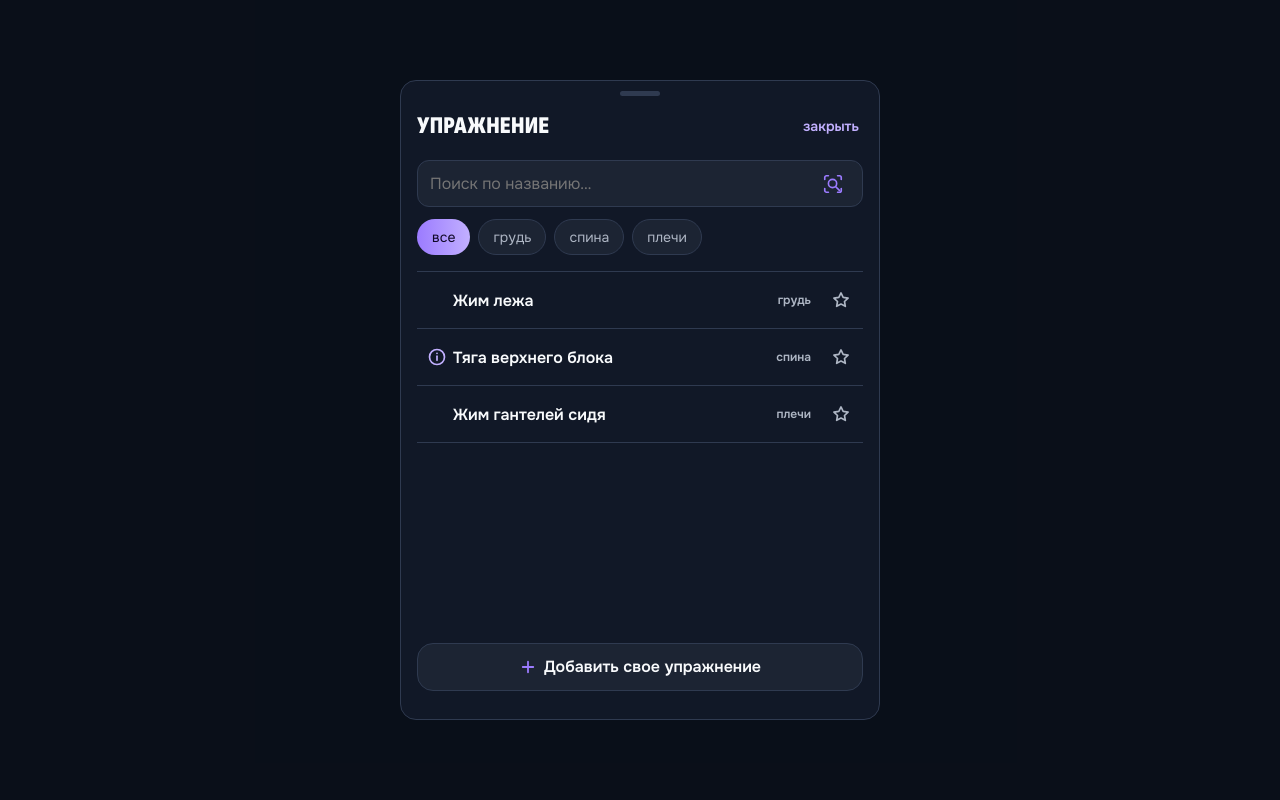
Test case: ExercisePicker — подсказка «Как выполнять» (v8.0.0) › нажатие открывает подсказку, не выбирает упражнение; закрытие возвращает к тому же поиску
Type "тяга" into the field with placeholder "Поиск по названию…" at (640, 184), box [417,160,863,207]
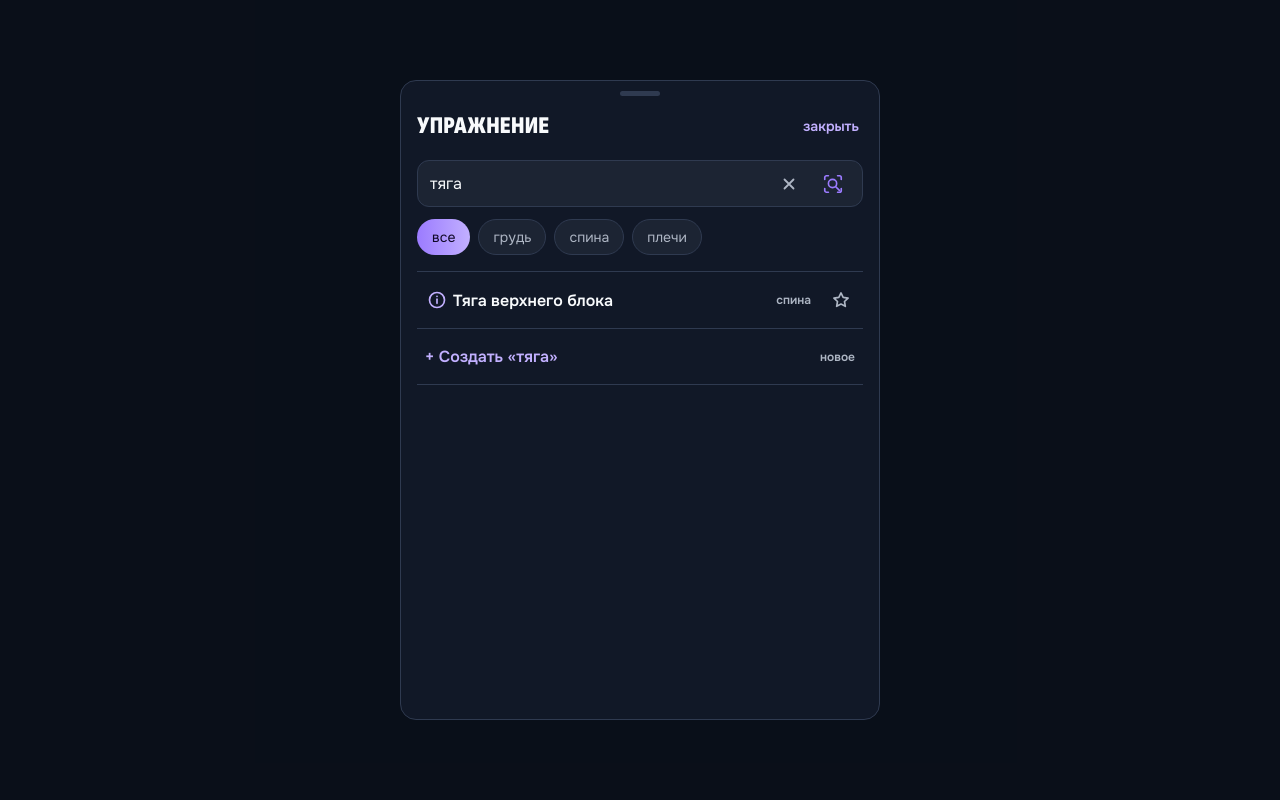
Click the button named "Как выполнять: Тяга верхнего блока" at (437, 300), box [417,272,457,328]
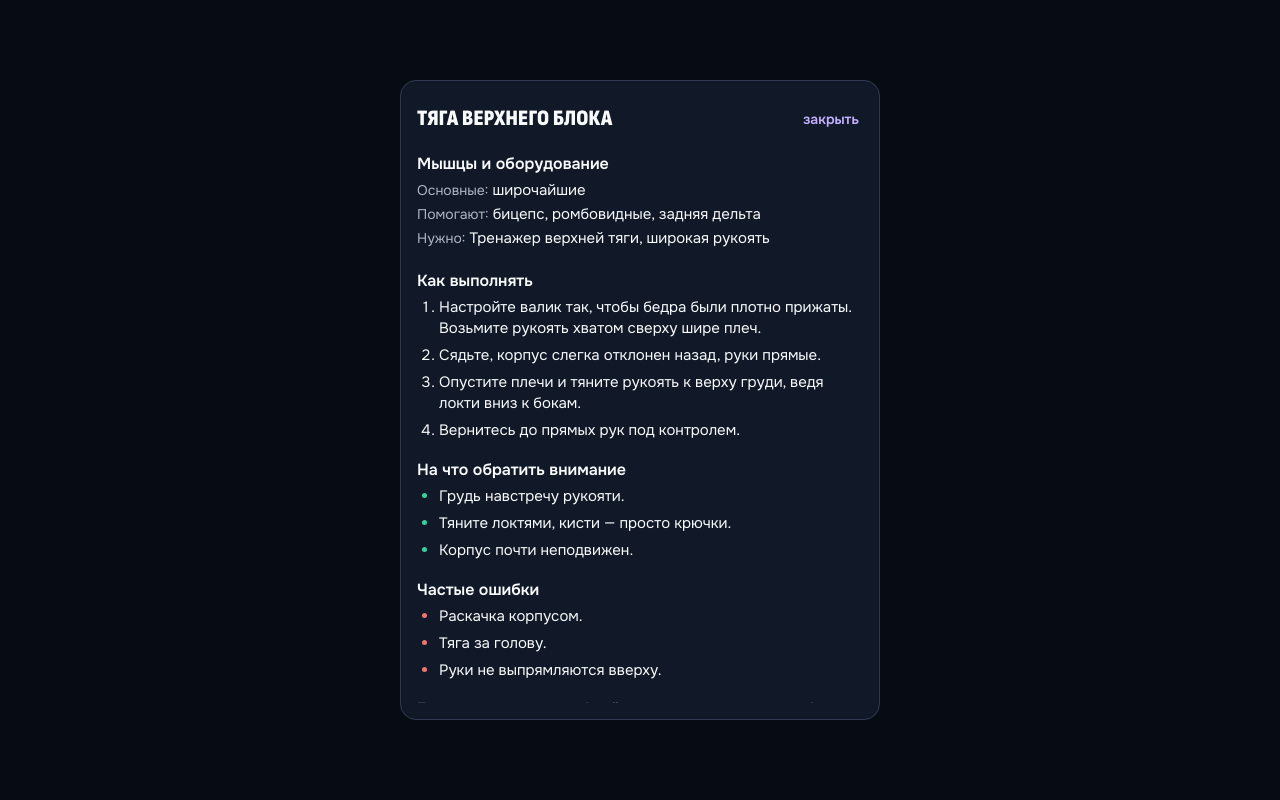
Expected: the dialog "Тяга верхнего блока" is shown, [400,80,880,720]
Expected: the heading "Частые ошибки" is shown, [417,579,539,600]
Click the button "закрыть" at (831, 119), box [799,97,863,141]
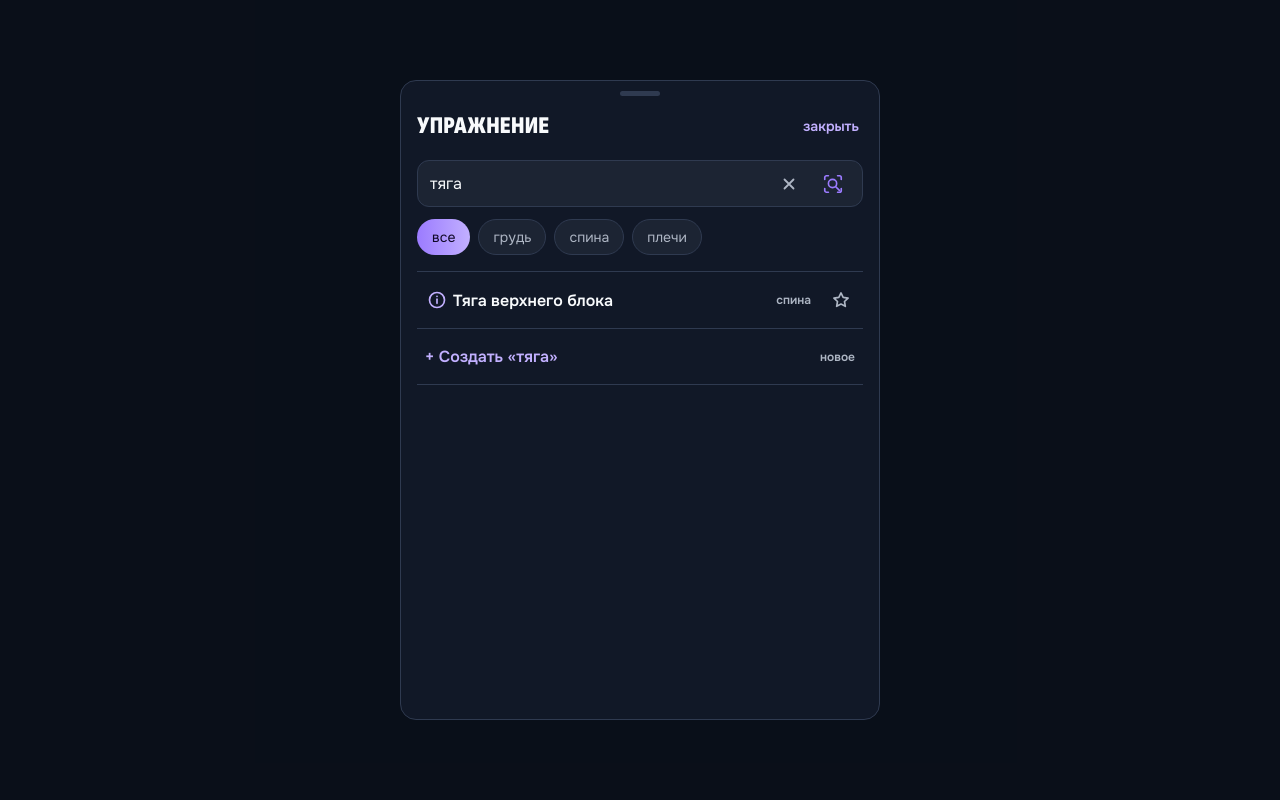
Expected: the heading "Частые ошибки" is gone
